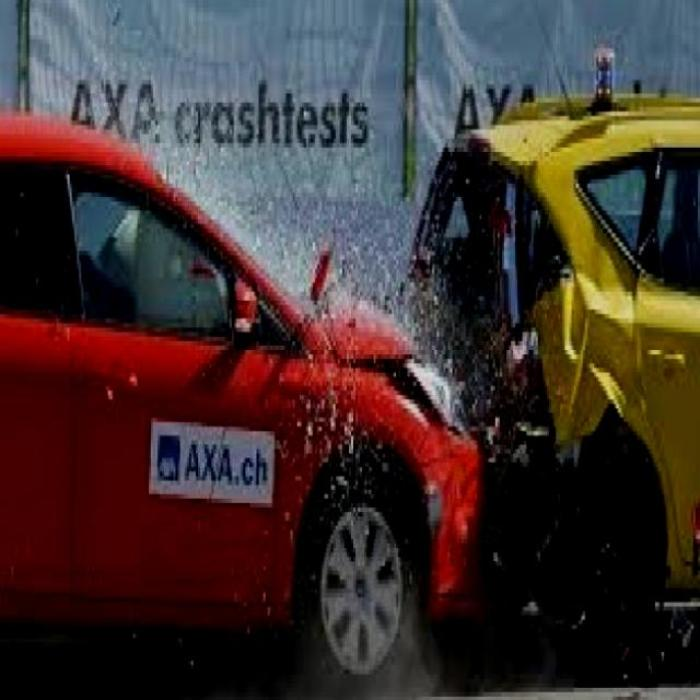Accident: (227, 67, 658, 652)
